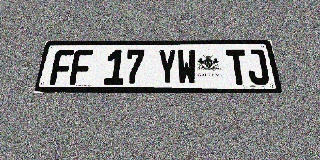1: (104, 50, 126, 85)
7: (124, 50, 144, 85)
F: (49, 50, 74, 85), (69, 50, 93, 85)
J: (245, 49, 270, 85)
T: (226, 49, 250, 85)
W: (177, 49, 197, 85)
Y: (157, 49, 177, 85)
